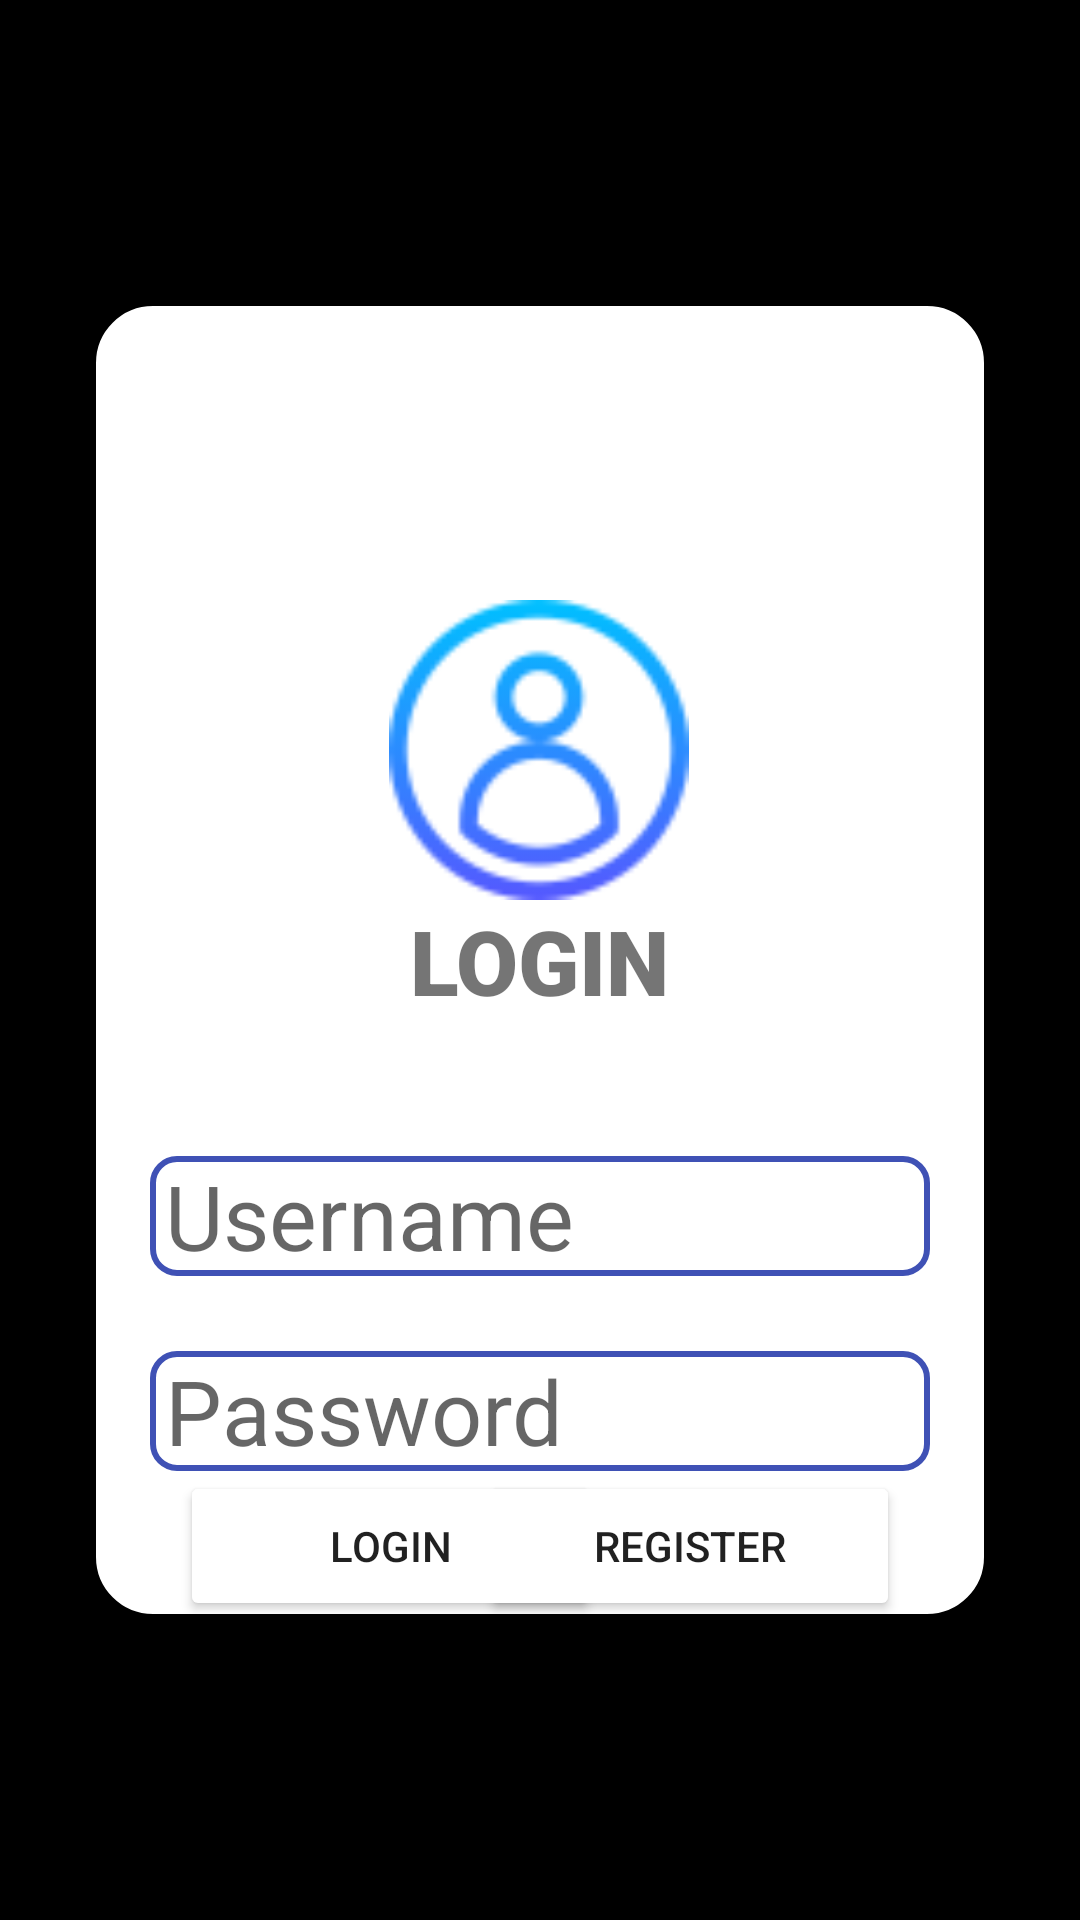

Where icons sit on this 1080×1920 app screen, as (x1, y1, x2, y2):
user: (389, 600, 689, 900)
